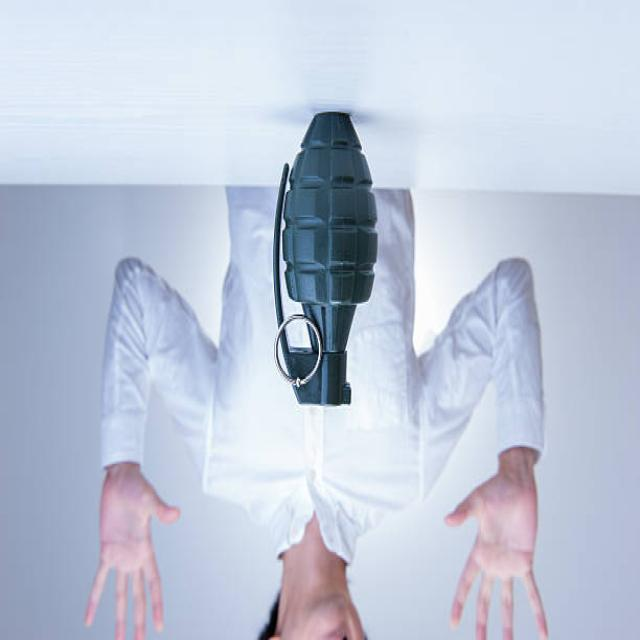grenade: (275, 118, 382, 415)
